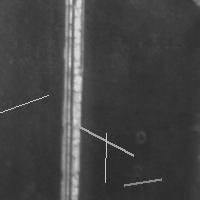scratches: (54, 1, 86, 199), (75, 122, 138, 160), (0, 90, 53, 133), (119, 174, 166, 190), (100, 128, 111, 187)
